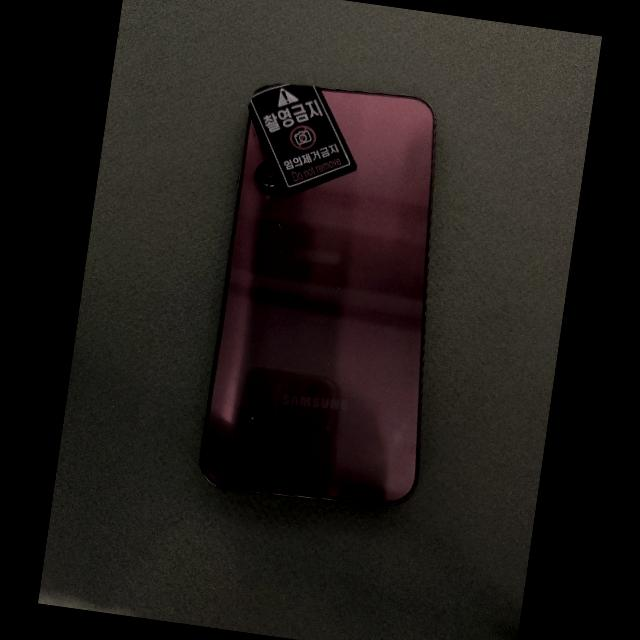lens: (257, 163, 280, 189)
phone: (201, 84, 435, 505)
sticker: (248, 83, 358, 195)
